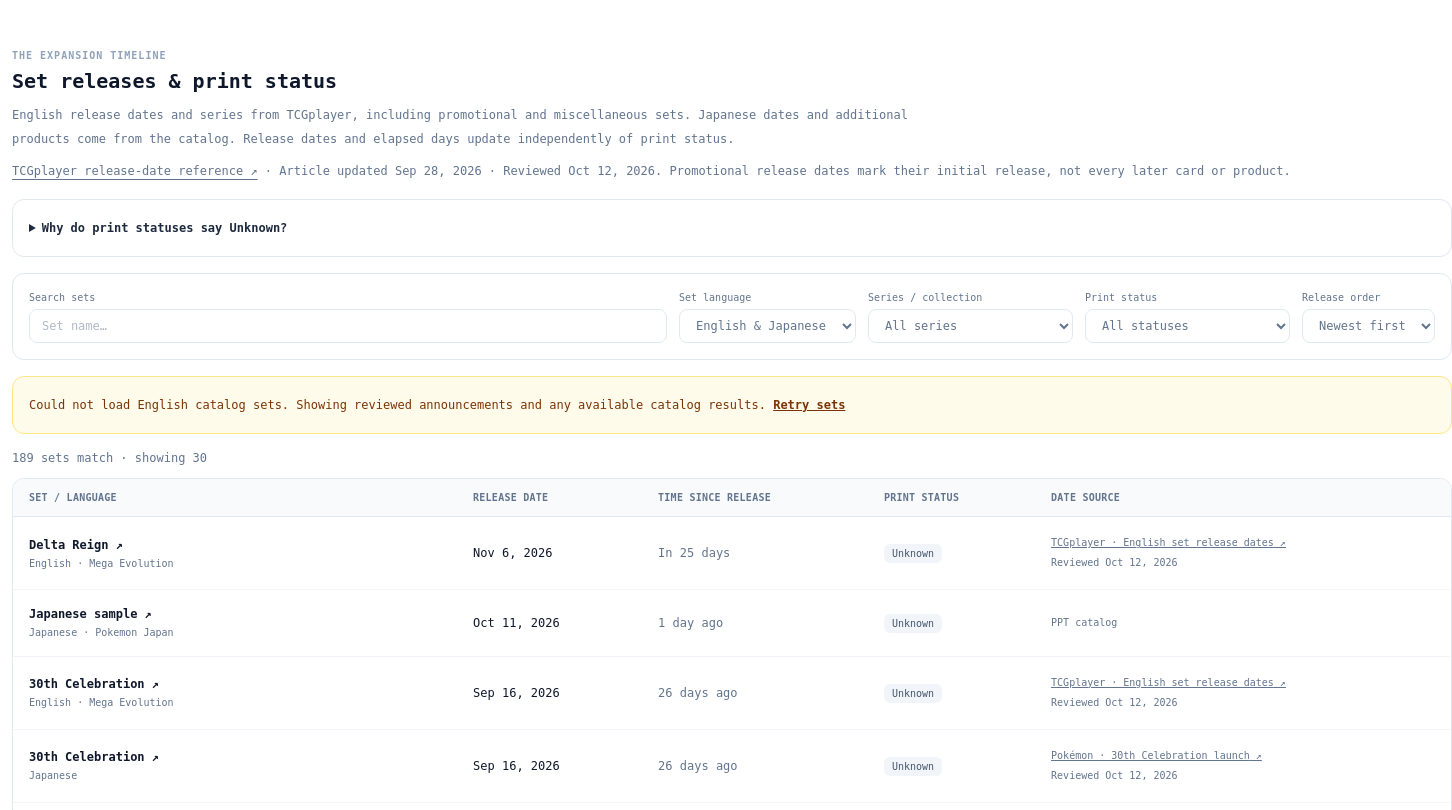
it: preserves announcements and the successful language when catalog loading fails, then retries
The image size is (1452, 810).
(page scrolled)
Expected: the message shows "Could not load English catalog sets", [12, 376, 1451, 434]
Expected: the link "Japanese sample ↗" is shown, [29, 607, 152, 621]
Click the button "Retry sets" at (809, 405), box [773, 393, 846, 417]
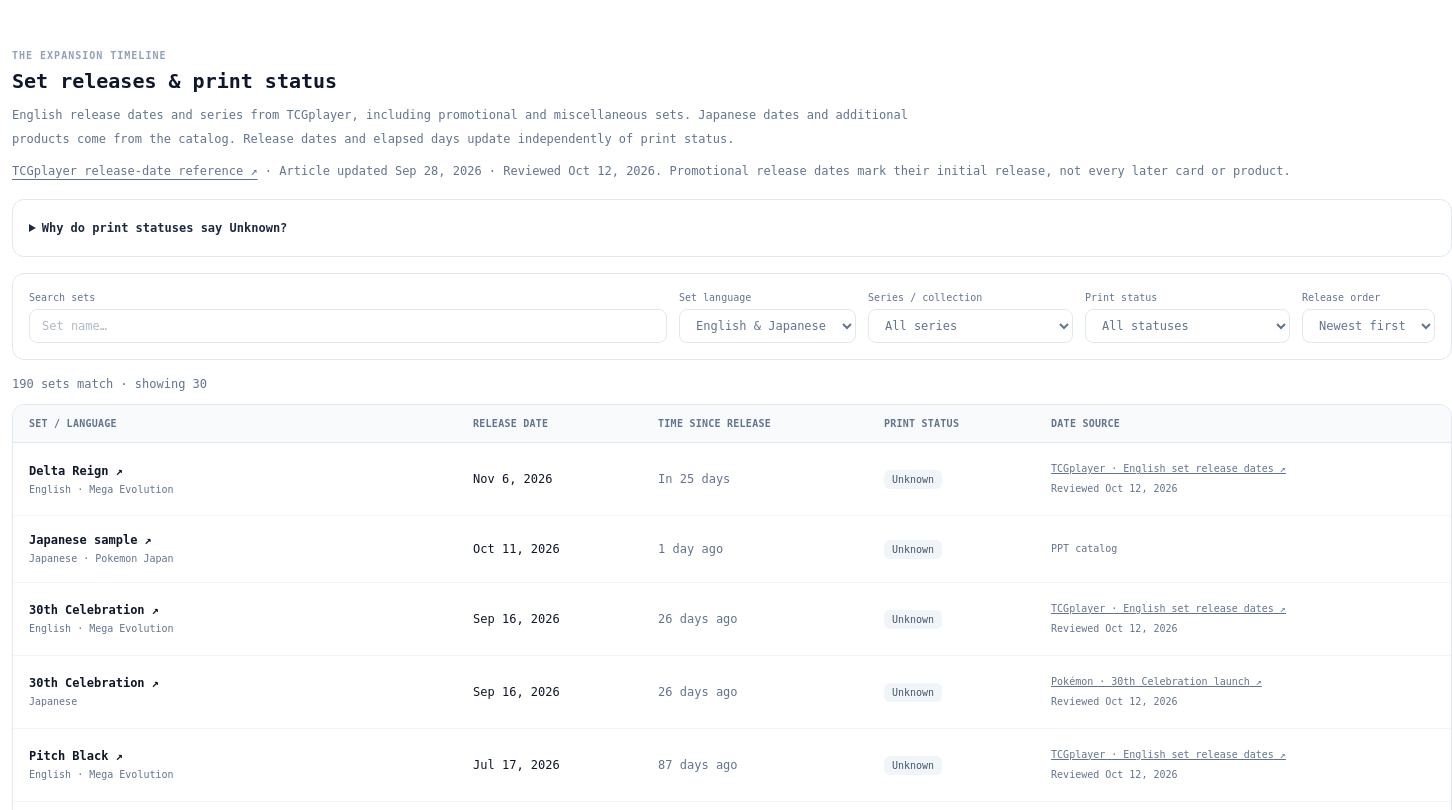
Expected: the message is gone
